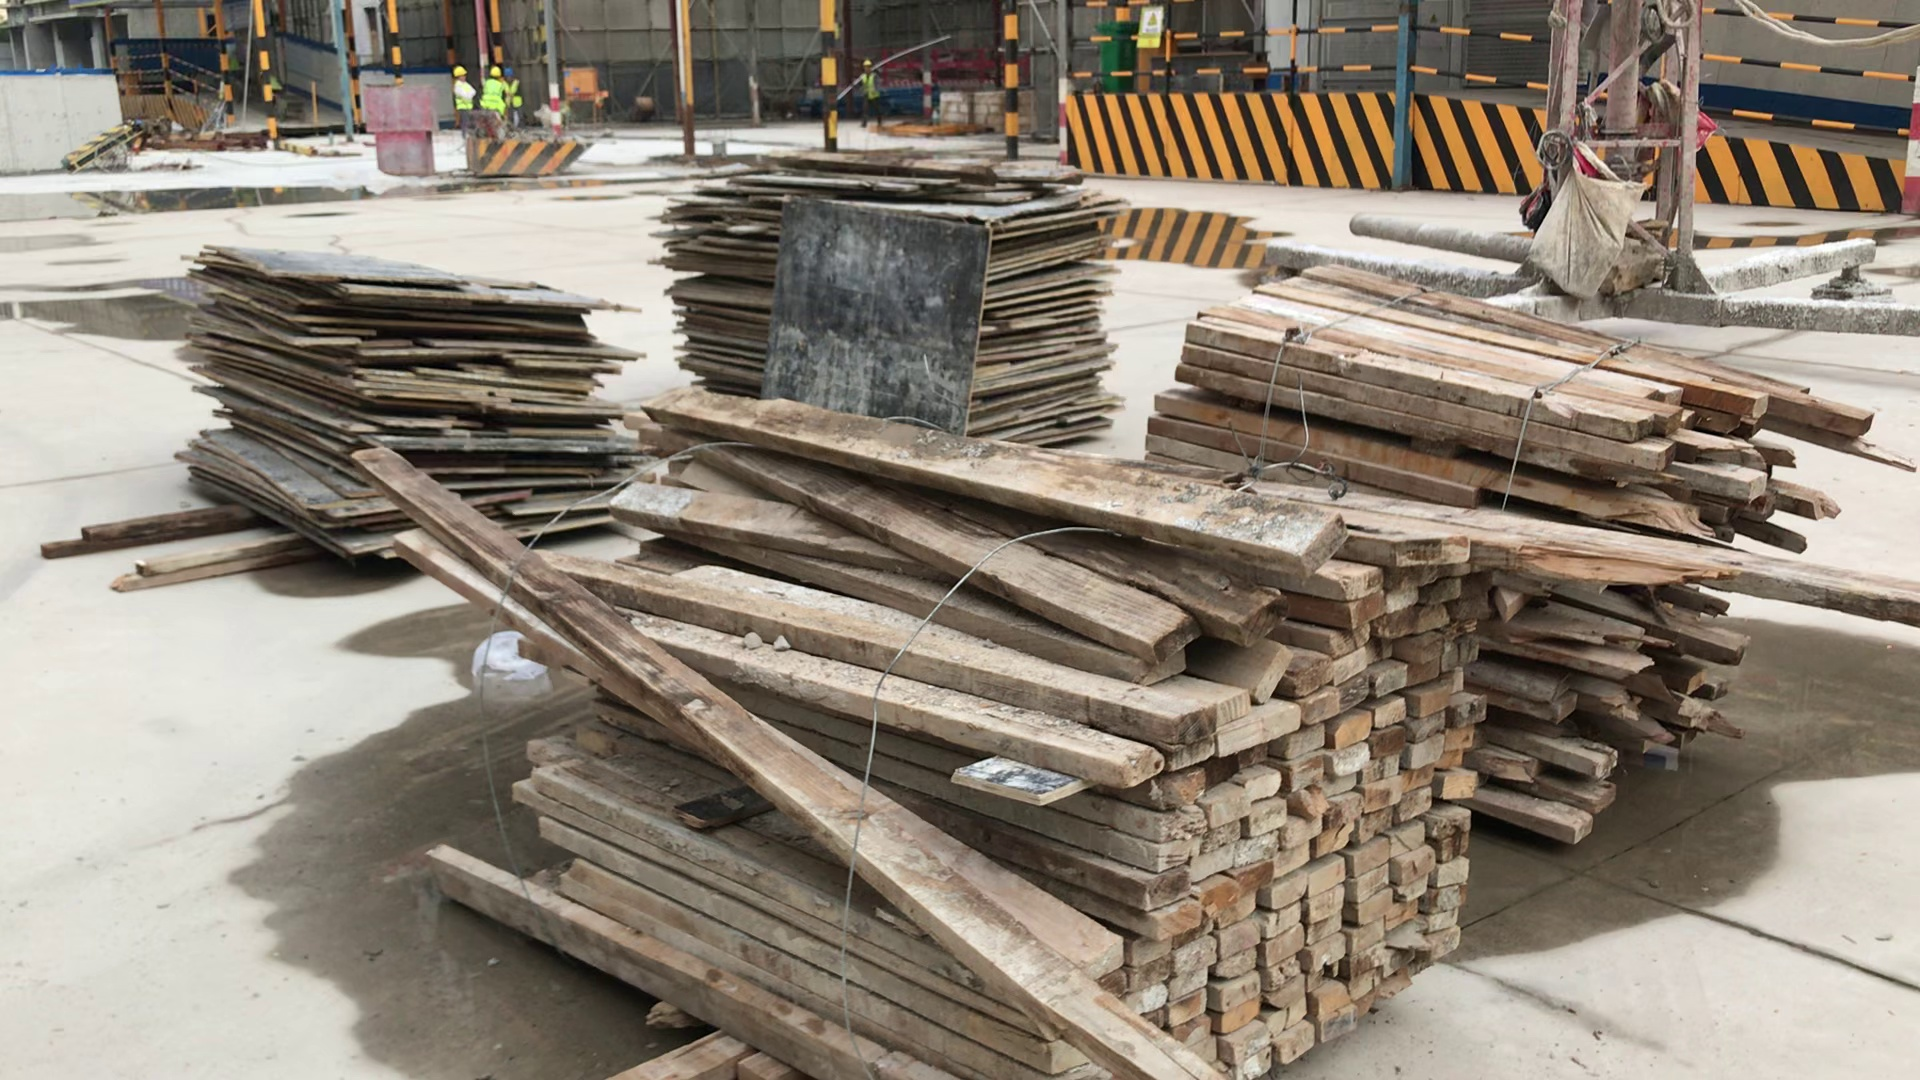board: (186, 243, 627, 550), (677, 153, 1106, 447)
person: (858, 58, 881, 129), (479, 66, 507, 119), (503, 68, 524, 127), (451, 64, 475, 109)
wood: (431, 392, 1471, 1080), (1151, 260, 1871, 850)
